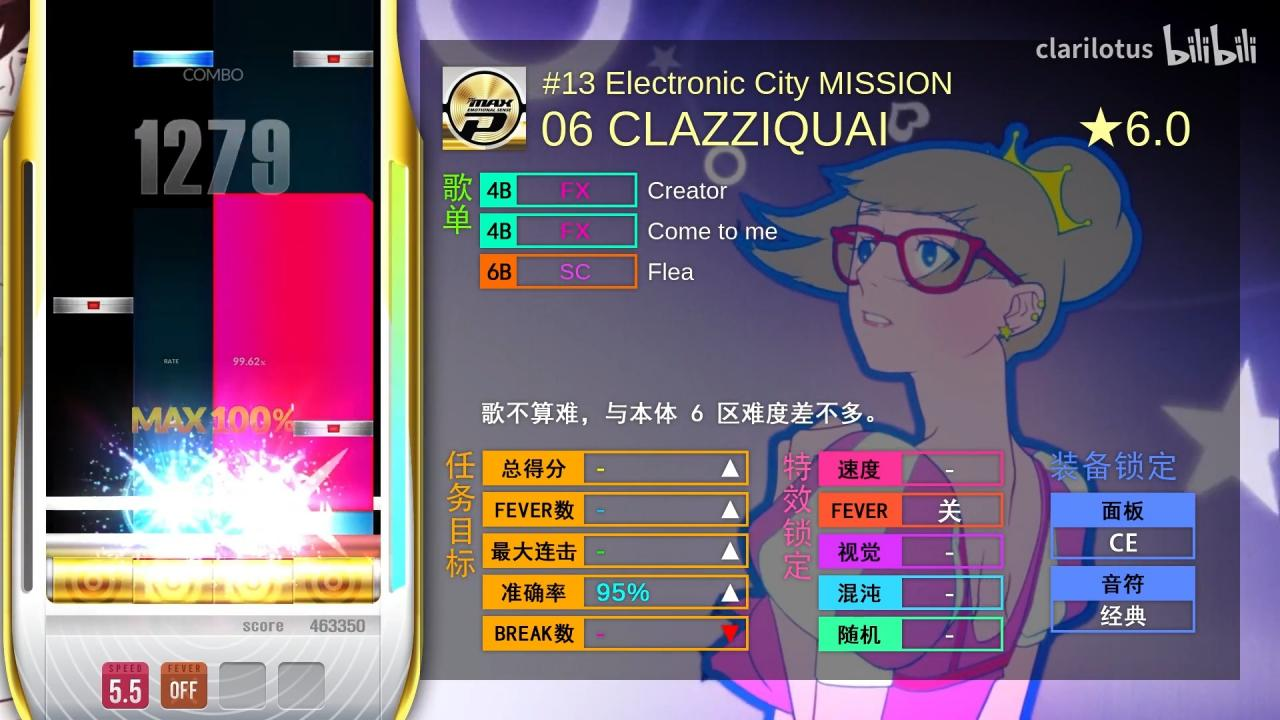note: (293, 420, 374, 437), (293, 50, 373, 67), (53, 297, 133, 314), (134, 51, 214, 67)
xend: (213, 192, 373, 215)
